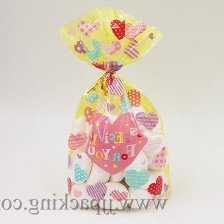snack: (52, 0, 179, 214)
